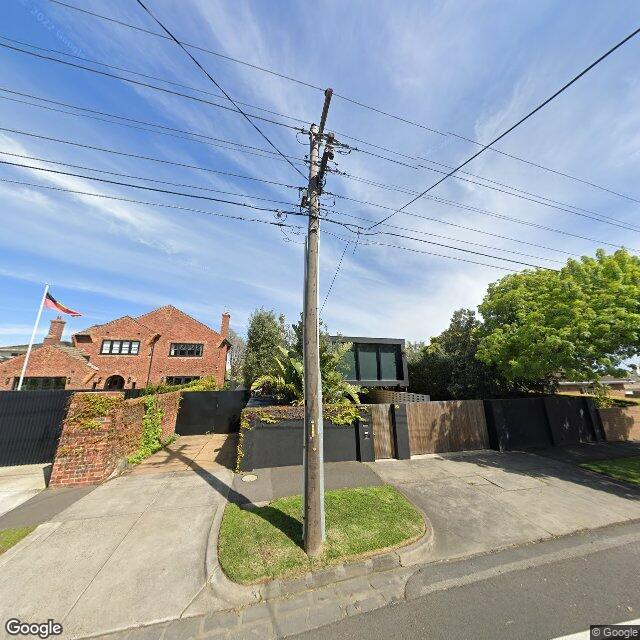HV-transmission: (309, 87, 334, 158)
crossarm: (318, 132, 360, 196), (318, 88, 334, 145)
timber-pole: (303, 128, 325, 555)
